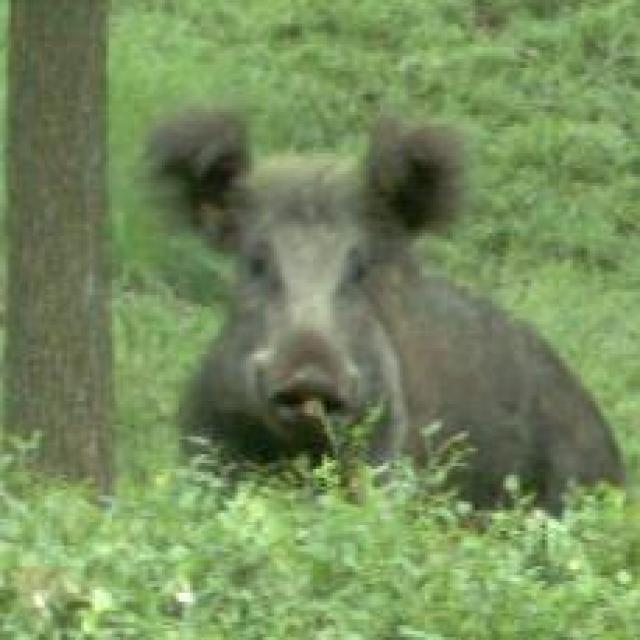pig: (133, 70, 632, 511)
